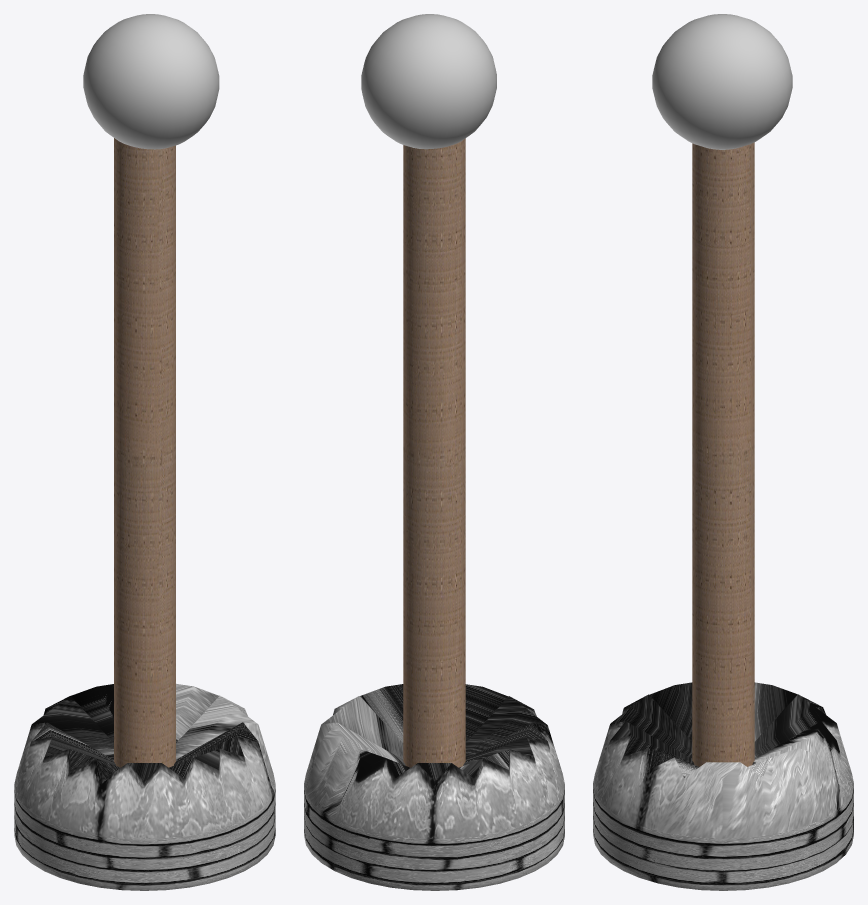
Rendered from Goalpole1.fbx.
3 renders of one model, left to right at view 1: azimuth 30°, elevation 25°; view 2: azimuth 150°, elevation 25°; view 3: azimuth 270°, elevation 25°, orthographic.
Visible parts, largest first — view 1: GoalPole, GoalPole_Ball; view 2: GoalPole, GoalPole_Ball; view 3: GoalPole, GoalPole_Ball.
Part boxes in pixels (x1=…): GoalPole: x1=14, y1=138, x2=275, y2=890; GoalPole_Ball: x1=83, y1=14, x2=219, y2=149; GoalPole: x1=304, y1=138, x2=564, y2=890; GoalPole_Ball: x1=361, y1=14, x2=496, y2=149; GoalPole: x1=593, y1=142, x2=853, y2=890; GoalPole_Ball: x1=652, y1=14, x2=792, y2=149.
Size of the model in its own units: 20.72 by 71.74 by 20.56.
